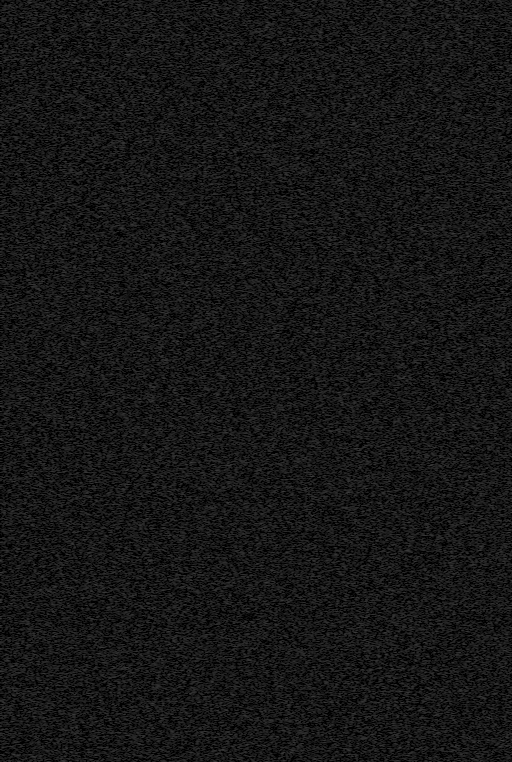wv_cw: (484, 0, 490, 762), (336, 0, 342, 762)
wv_lsb: (416, 264, 422, 626), (416, 5, 422, 263), (417, 627, 422, 710), (417, 711, 422, 762)
wv_usb: (313, 308, 318, 558), (299, 608, 305, 762), (299, 49, 305, 185), (313, 58, 318, 186), (313, 187, 318, 307), (308, 437, 312, 576), (313, 653, 318, 762), (307, 248, 313, 336), (299, 186, 305, 223), (300, 315, 304, 367), (308, 372, 312, 414), (313, 564, 318, 597), (300, 275, 304, 314), (299, 242, 304, 271), (300, 372, 304, 406), (308, 615, 312, 644), (313, 631, 318, 652), (313, 13, 318, 34), (308, 197, 312, 223), (300, 442, 304, 467), (300, 407, 304, 432), (299, 224, 304, 241), (308, 415, 312, 436), (313, 35, 317, 55), (308, 6, 312, 24), (300, 487, 304, 504), (300, 469, 304, 486), (313, 613, 317, 630), (308, 337, 312, 354), (308, 41, 312, 58), (308, 691, 312, 707), (308, 577, 312, 592), (308, 232, 312, 247), (308, 181, 312, 196), (300, 505, 304, 519), (300, 21, 304, 35), (308, 655, 312, 669), (308, 125, 312, 139), (300, 530, 304, 544), (313, 599, 317, 612), (308, 93, 312, 106), (300, 36, 304, 48), (308, 670, 312, 682), (300, 562, 304, 574), (308, 355, 312, 366), (300, 548, 304, 559), (308, 74, 312, 84), (300, 594, 304, 603), (300, 11, 304, 20), (300, 520, 304, 529), (300, 433, 304, 441), (308, 754, 312, 762), (308, 708, 312, 715), (308, 683, 312, 690), (308, 647, 312, 654), (308, 607, 312, 614), (308, 224, 312, 231), (308, 169, 312, 176), (308, 159, 312, 166), (300, 587, 304, 593), (313, 6, 317, 12), (300, 575, 304, 581), (308, 600, 312, 606), (308, 593, 312, 599), (313, 559, 318, 563), (308, 116, 312, 121), (308, 87, 312, 92), (308, 63, 312, 68), (300, 6, 304, 10), (308, 149, 312, 153), (308, 107, 312, 111), (308, 69, 312, 73), (300, 604, 304, 607), (300, 368, 304, 371), (300, 582, 304, 585), (308, 723, 312, 726), (308, 368, 312, 371)
wv_wbfm: (471, 0, 483, 762)
